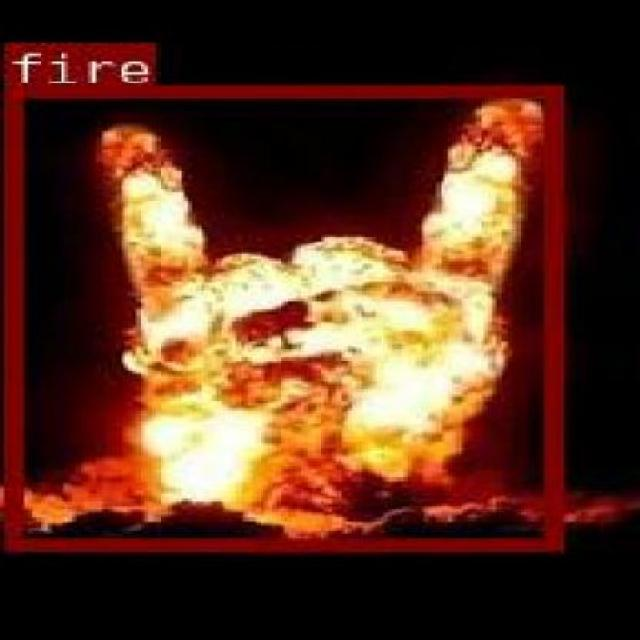Fire: (2, 83, 558, 549)
